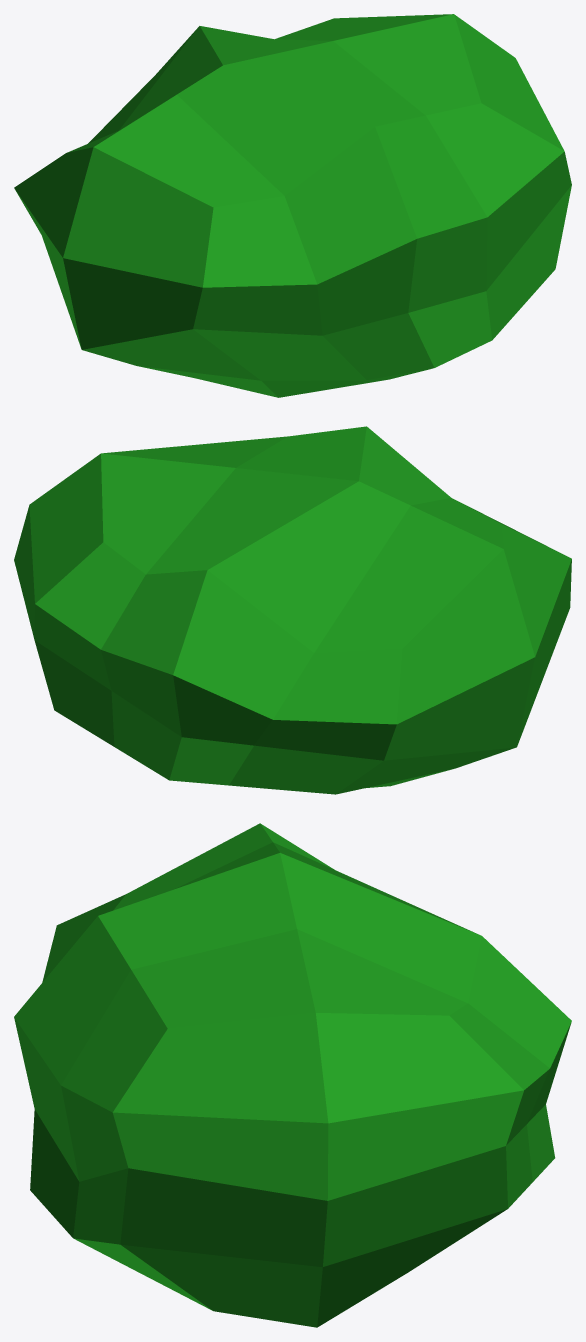
File: bush-asset-2.glb
3 renders of one model, top to bottom at view 1: azimuth 30°, elevation 25°; view 2: azimuth 150°, elevation 25°; view 3: azimuth 270°, elevation 25°, orthographic. The views are drawn at different scales.
Visible parts, largest first — view 1: ruler_flower3; view 2: ruler_flower3; view 3: ruler_flower3.
Part boxes in pixels (x1,y1,x2,y2): ruler_flower3: [14, 14, 571, 397]; ruler_flower3: [14, 426, 571, 794]; ruler_flower3: [14, 823, 571, 1327].
Bounding box in the file's own units: 284 × 165 × 242.
